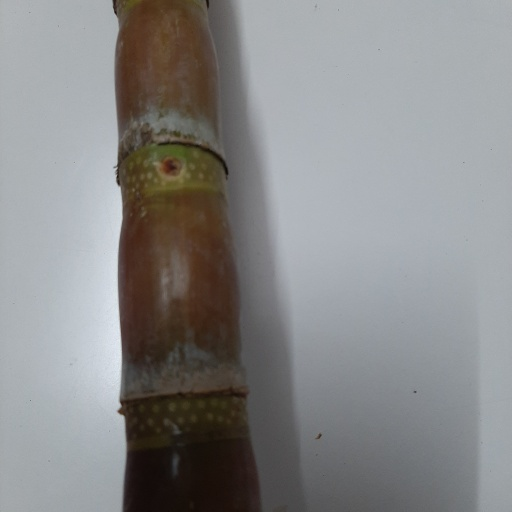Damage_Bud: (158, 156, 185, 179)
